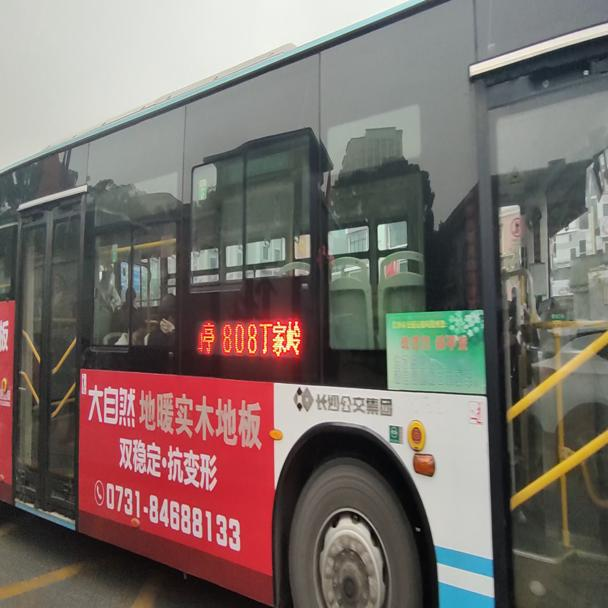bus: (2, 0, 603, 594)
screen: (218, 317, 258, 356)
